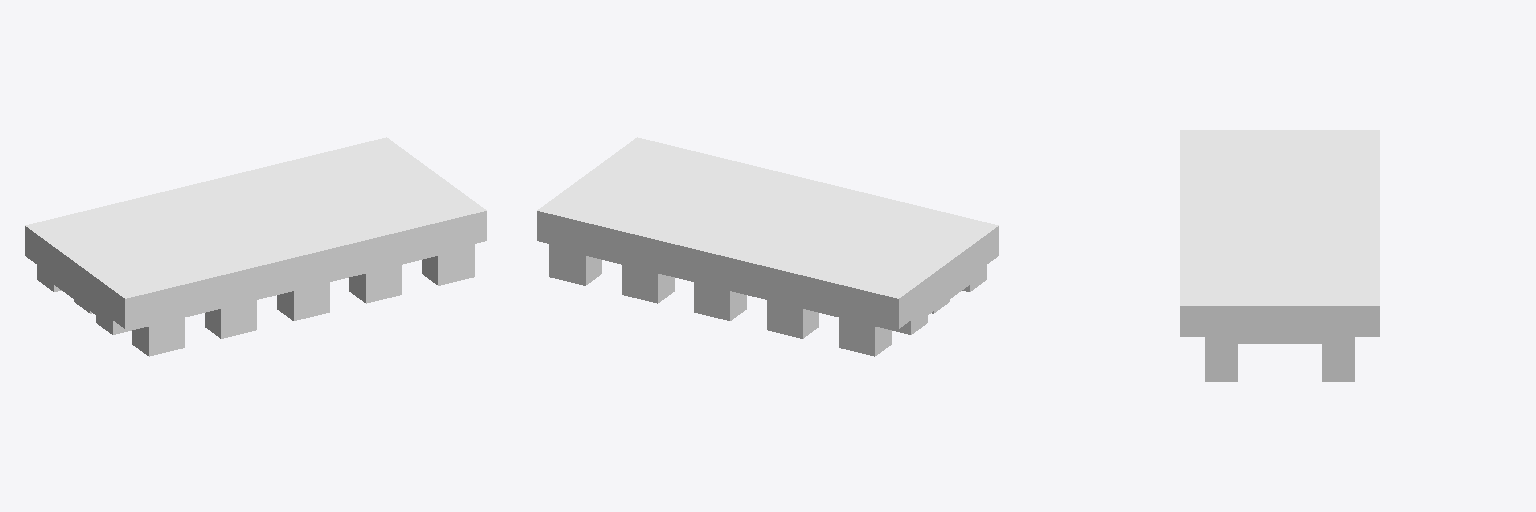
The model's file is belt.obj.
3 renders of one model, left to right at view 1: azimuth 30°, elevation 25°; view 2: azimuth 150°, elevation 25°; view 3: azimuth 270°, elevation 25°, orthographic.
Visible parts, largest first — view 1: object 1; view 2: object 1; view 3: object 1.
Boxes of the visible parts, x1,y1,x2,y2 form: object 1: [25, 137, 486, 356]; object 1: [537, 137, 998, 356]; object 1: [1180, 130, 1379, 381].
Bounding box in the file's own units: 5 × 1 × 2.4.